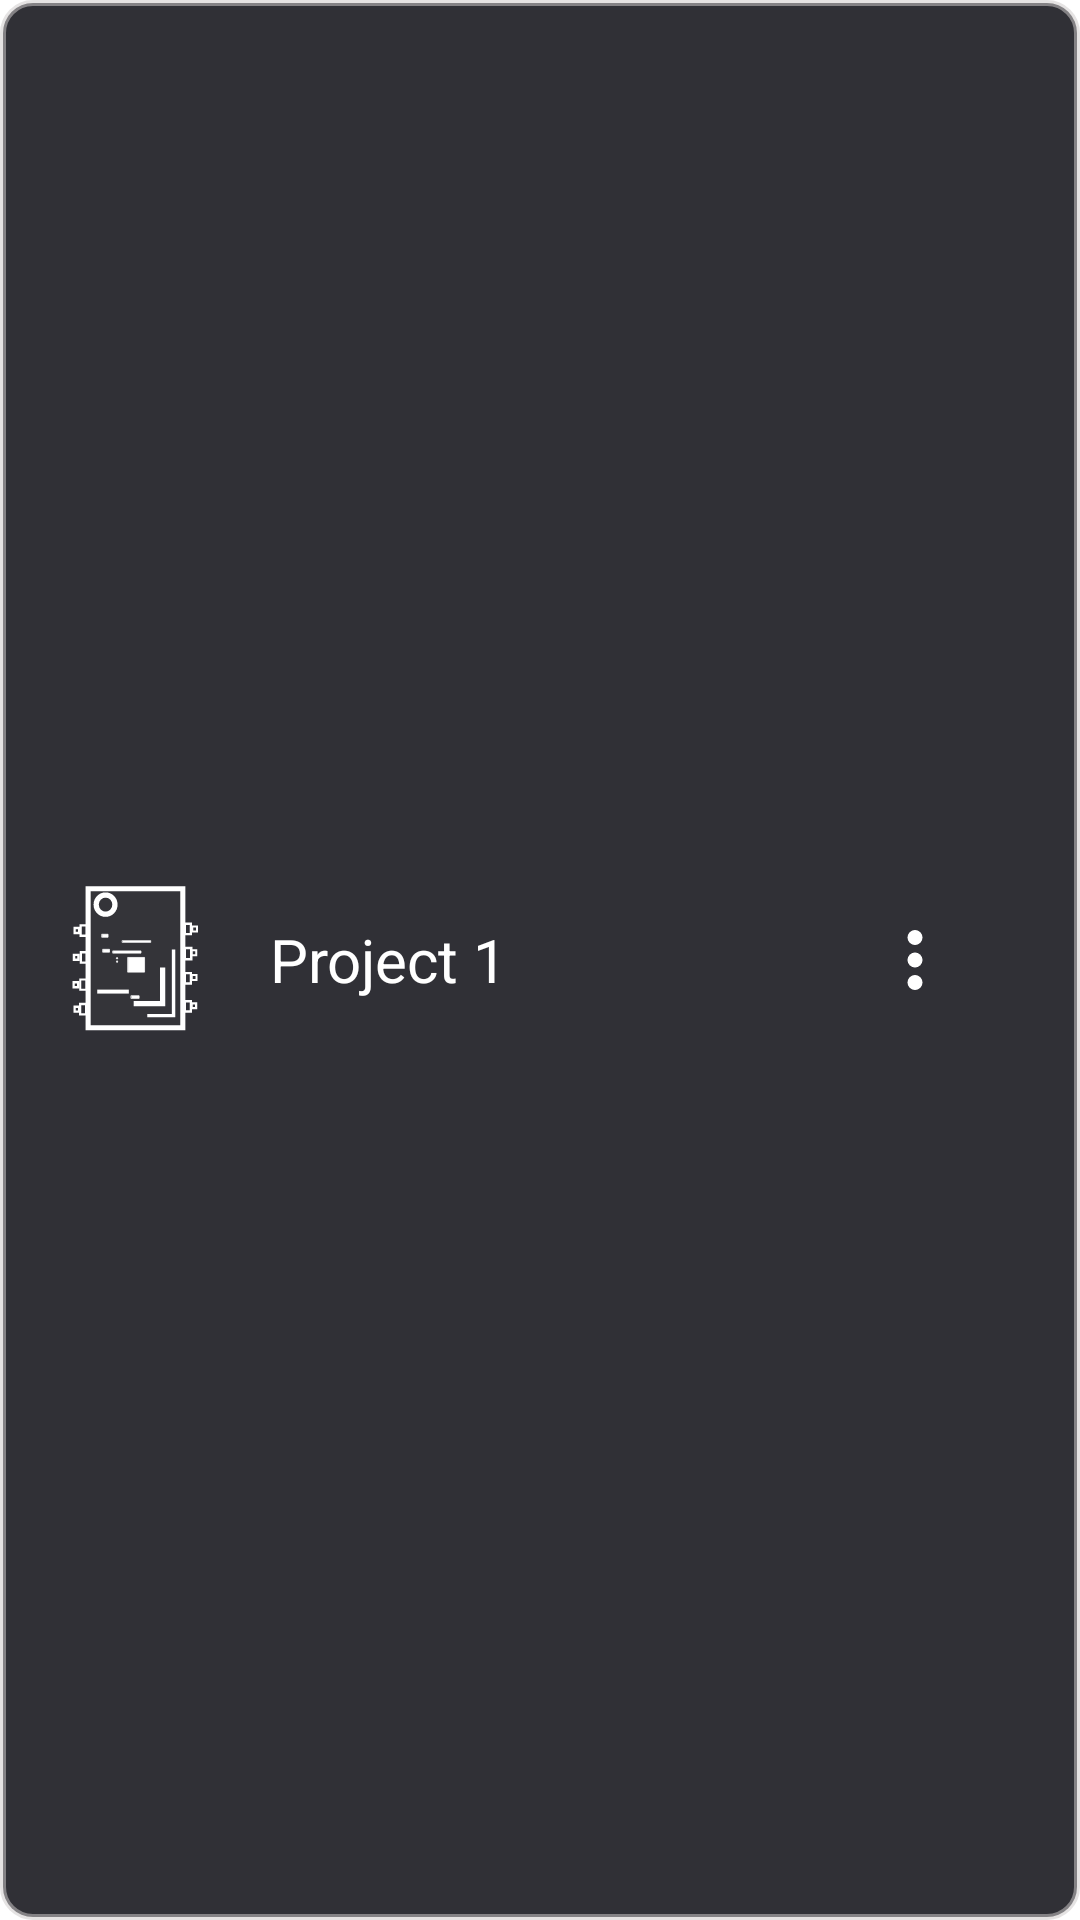

Icon click points for this 1080*1920 phone screenshot, format point (x, y):
more: point (915, 960)
